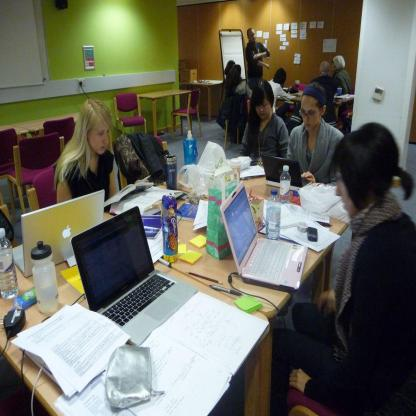board: (64, 201, 197, 346), (221, 182, 307, 291), (14, 187, 104, 278), (31, 240, 59, 314), (263, 156, 312, 192), (0, 228, 18, 300), (266, 188, 280, 240), (184, 130, 196, 172), (280, 164, 290, 204)
